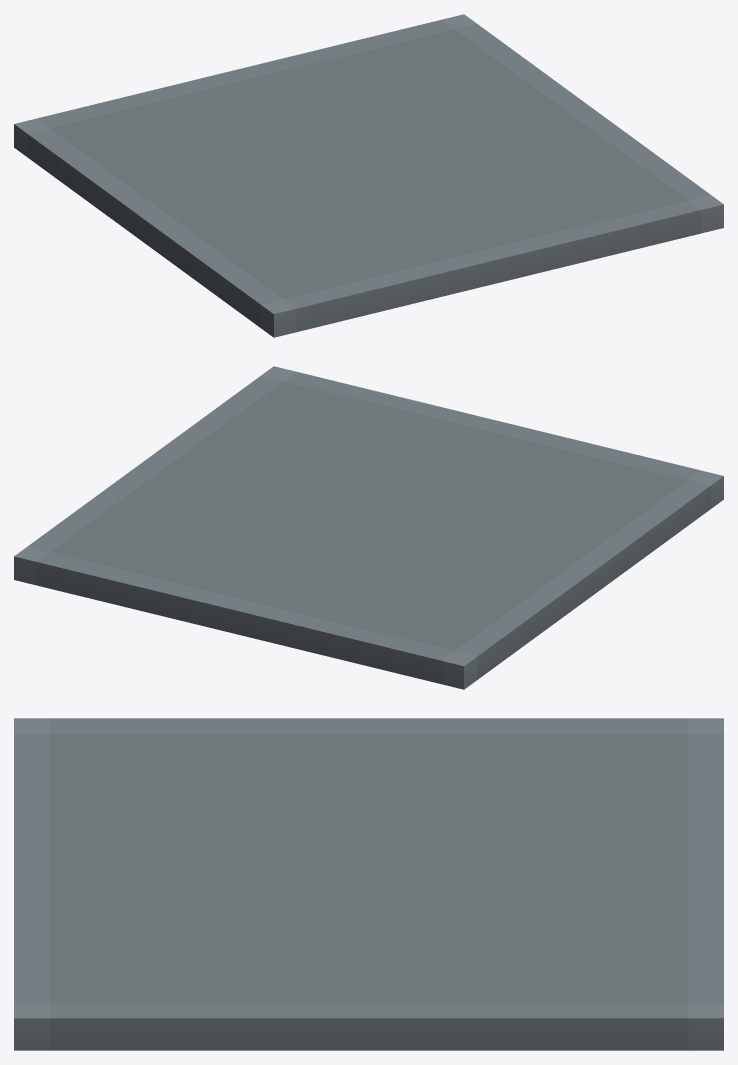
Rendered from road.obj.
3 views of the same model, one above another, from view 1: azimuth 30°, elevation 25°; view 2: azimuth 150°, elevation 25°; view 3: azimuth 270°, elevation 25° (orthographic). The views are drawn at different scales.
Parts seen in each view (by area): view 1: base; view 2: base; view 3: base.
Part boxes in pixels (box(x1,y1,x2,y2)): base: box(14, 14, 723, 337); base: box(14, 366, 723, 689); base: box(14, 718, 723, 1050).
Bounding box in the file's own units: 2 × 0.1 × 2.
Materials: 1 (1 with a texture image).
